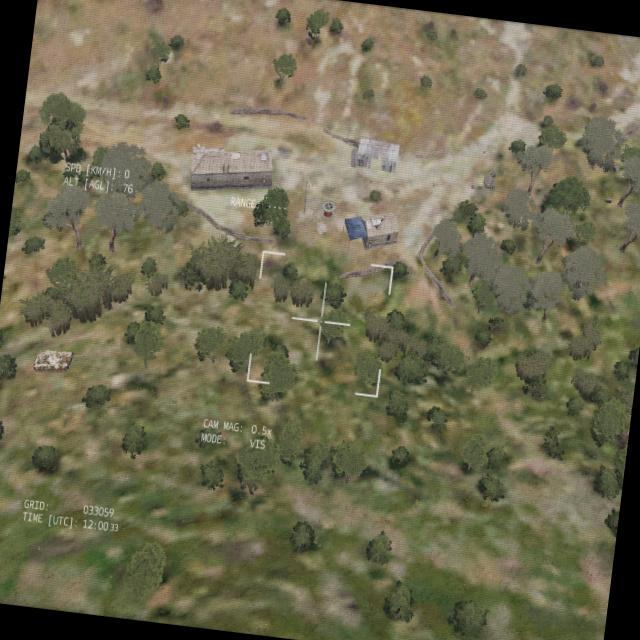tank: (32, 346, 84, 376)
